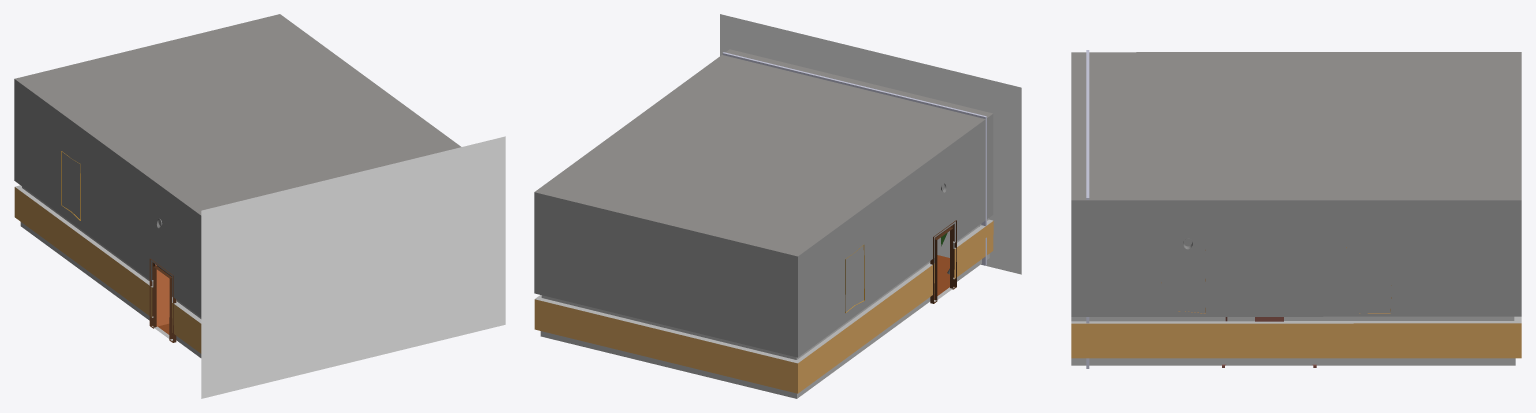
The model's file is GabinetePresidencial (1).fbx.
The picture shows the model from 3 angles, left to right: view 1: azimuth 30°, elevation 25°; view 2: azimuth 150°, elevation 25°; view 3: azimuth 270°, elevation 25°; orthographic projection. The views are drawn at different scales.
Visible parts, largest first — view 1: Sala, Plane, Batente, Porta; view 2: Sala, Plane, Janela, Batente; view 3: Sala, Janela.
Part boxes in pixels (x1,y1,x2,y2): Sala: (14, 14, 460, 357); Plane: (201, 136, 505, 398); Batente: (149, 258, 176, 342); Porta: (155, 264, 169, 326); Sala: (534, 49, 993, 398); Plane: (720, 14, 1021, 274); Janela: (722, 52, 986, 265); Batente: (930, 220, 956, 303); Sala: (1071, 52, 1521, 365); Janela: (1086, 50, 1089, 368).
Bounding box in the file's own units: 1566 × 927 × 1839.
